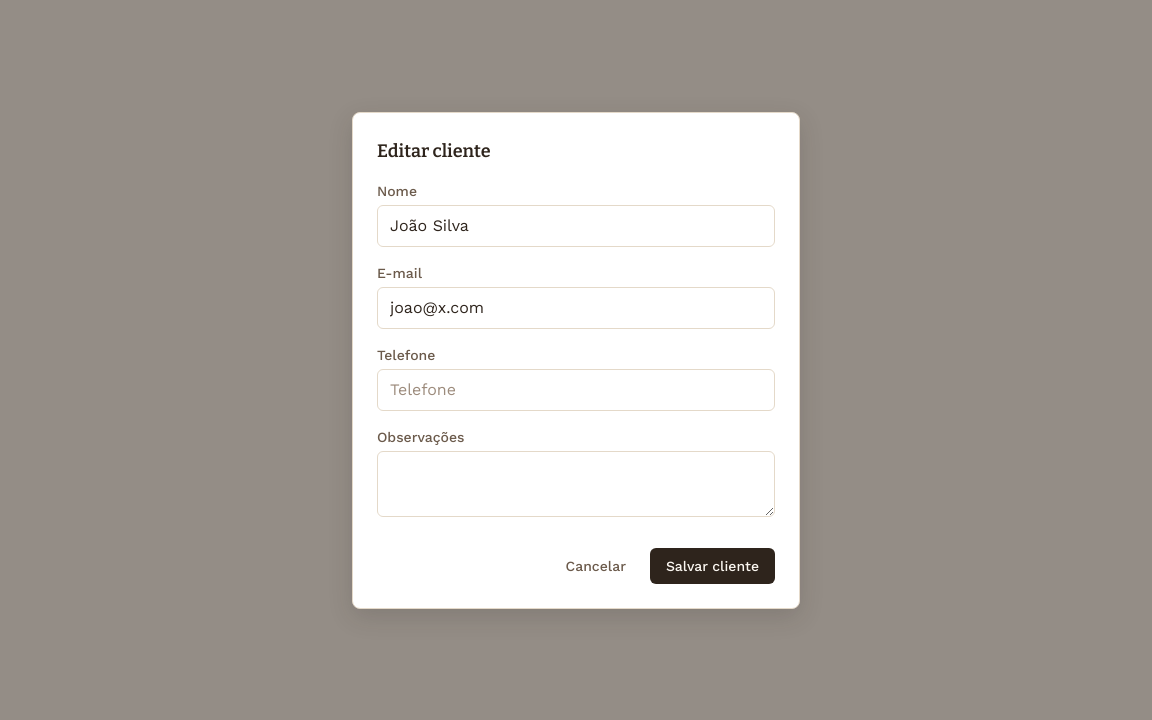
Test case: ClientFormModal › disables the save button when the email is cleared
Clear the field labelled "E-mail" at (576, 308), box [377, 286, 775, 328]
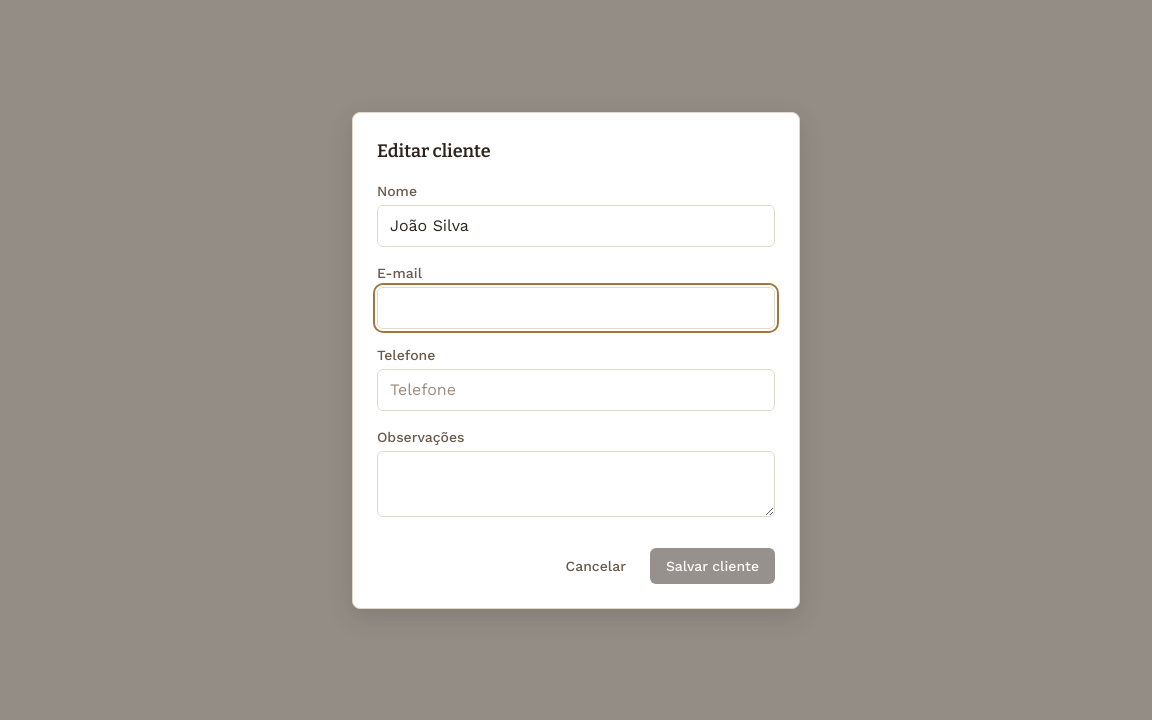
Now the button "Salvar cliente" is disabled, box [650, 548, 775, 584]
